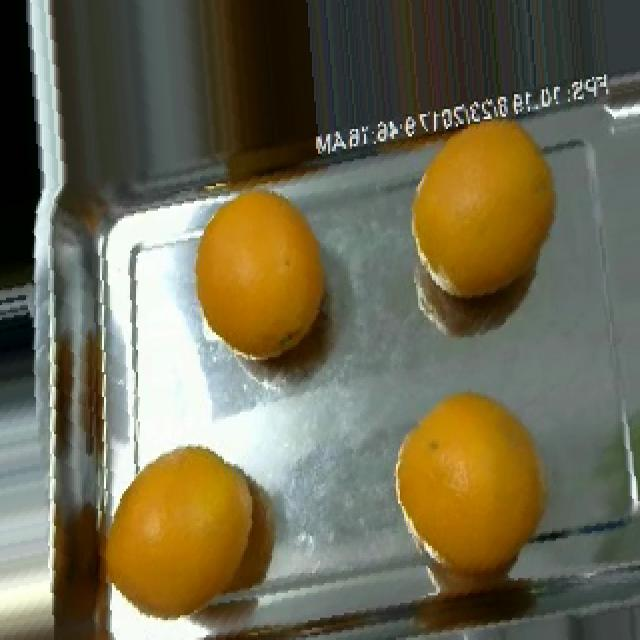Fruit: (378, 374, 576, 593), (394, 107, 578, 335), (176, 171, 352, 395)
